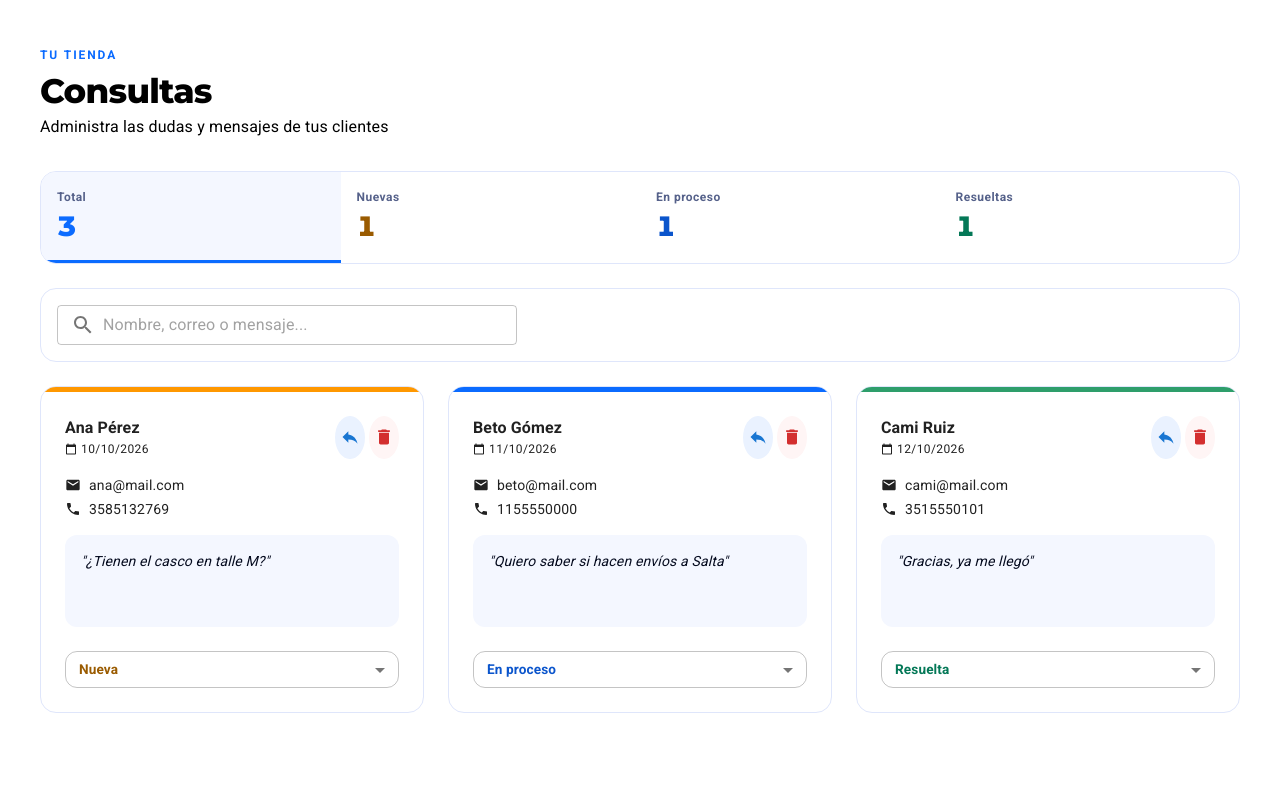
Test: Consultas · eliminar › pide confirmación con el nombre de quien escribió, y recién al confirmar manda el id
Click the button with test id "DeleteIcon" at [384, 437], box [369,416,399,459]
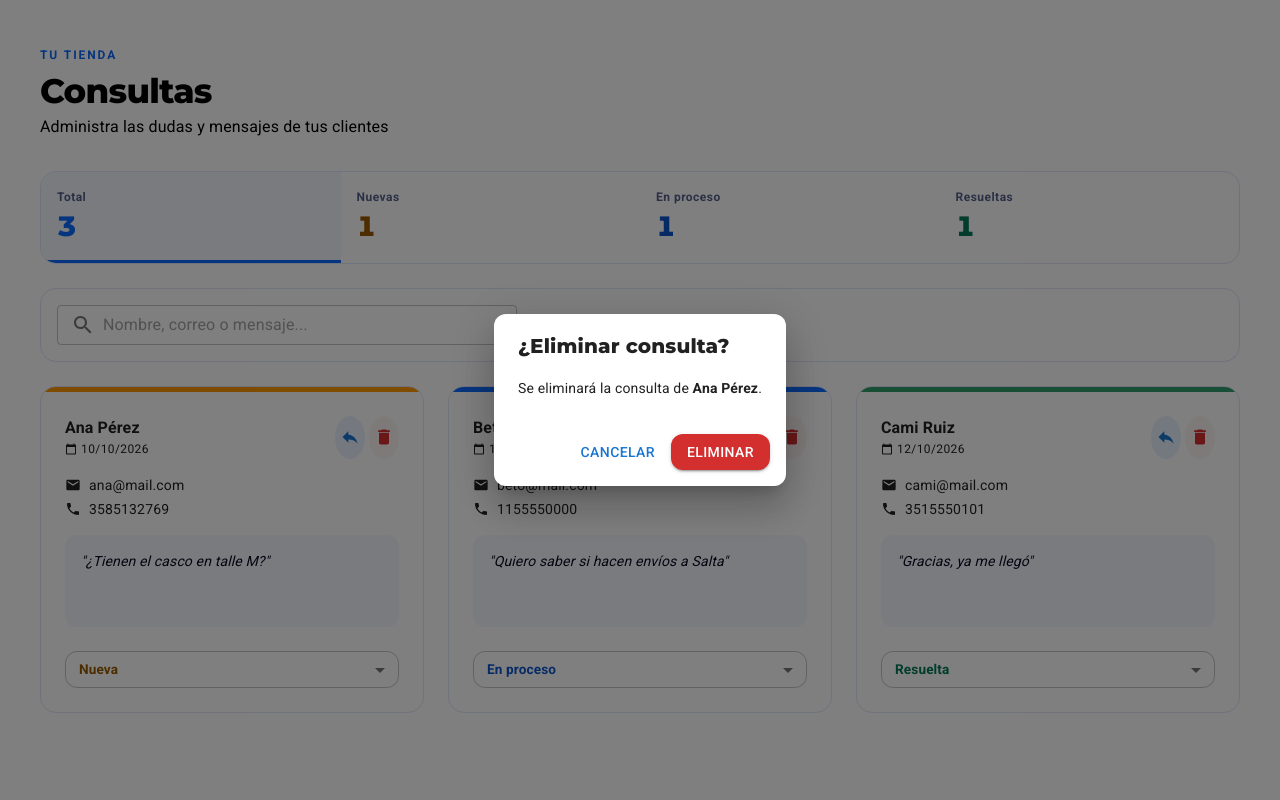
Expected: the heading "¿Eliminar consulta?" is shown, [518,334,730,358]
Expected: the text "Ana Pérez" is shown, [693,380,758,396]
Click the button "Eliminar" at [720, 452], box [671,434,770,470]
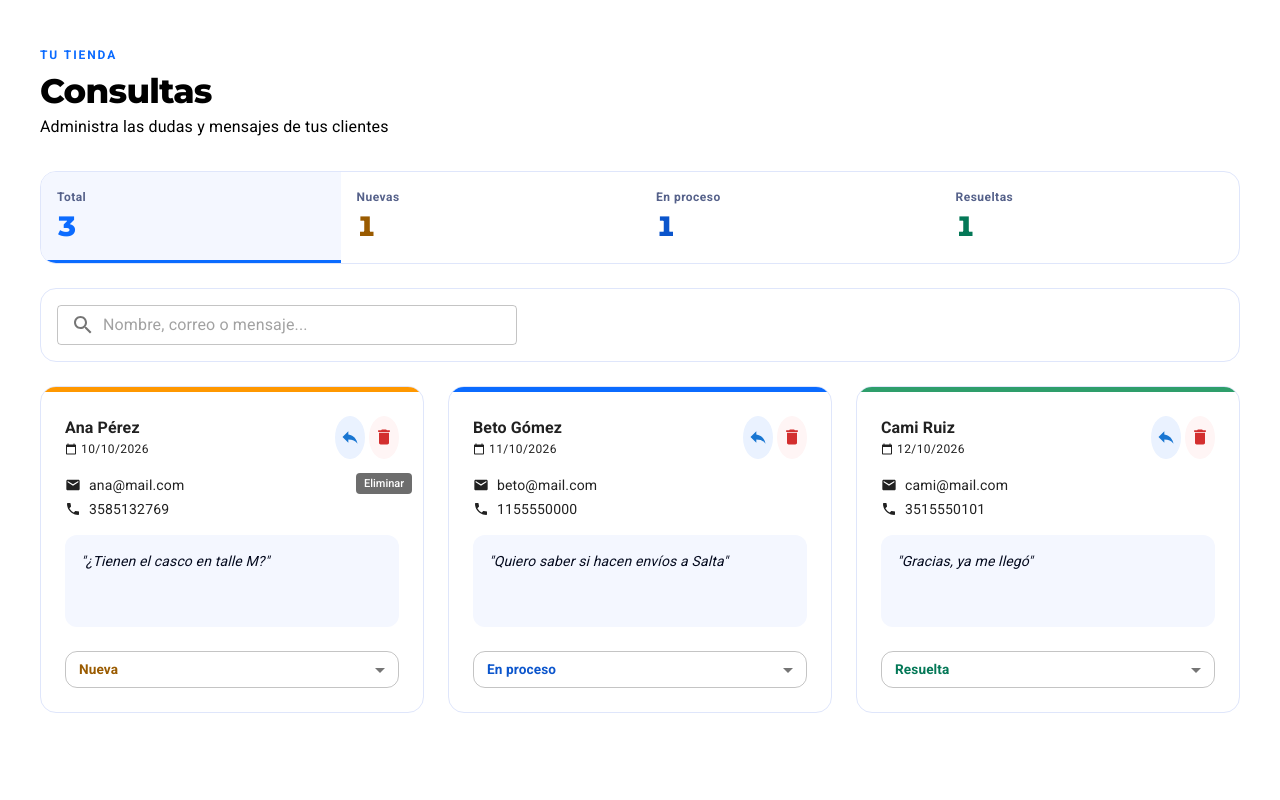
Expected: the dialog is gone
